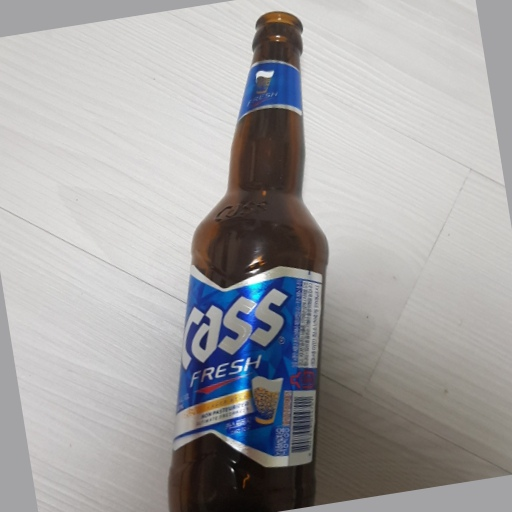Glass_1: (175, 6, 333, 512)
